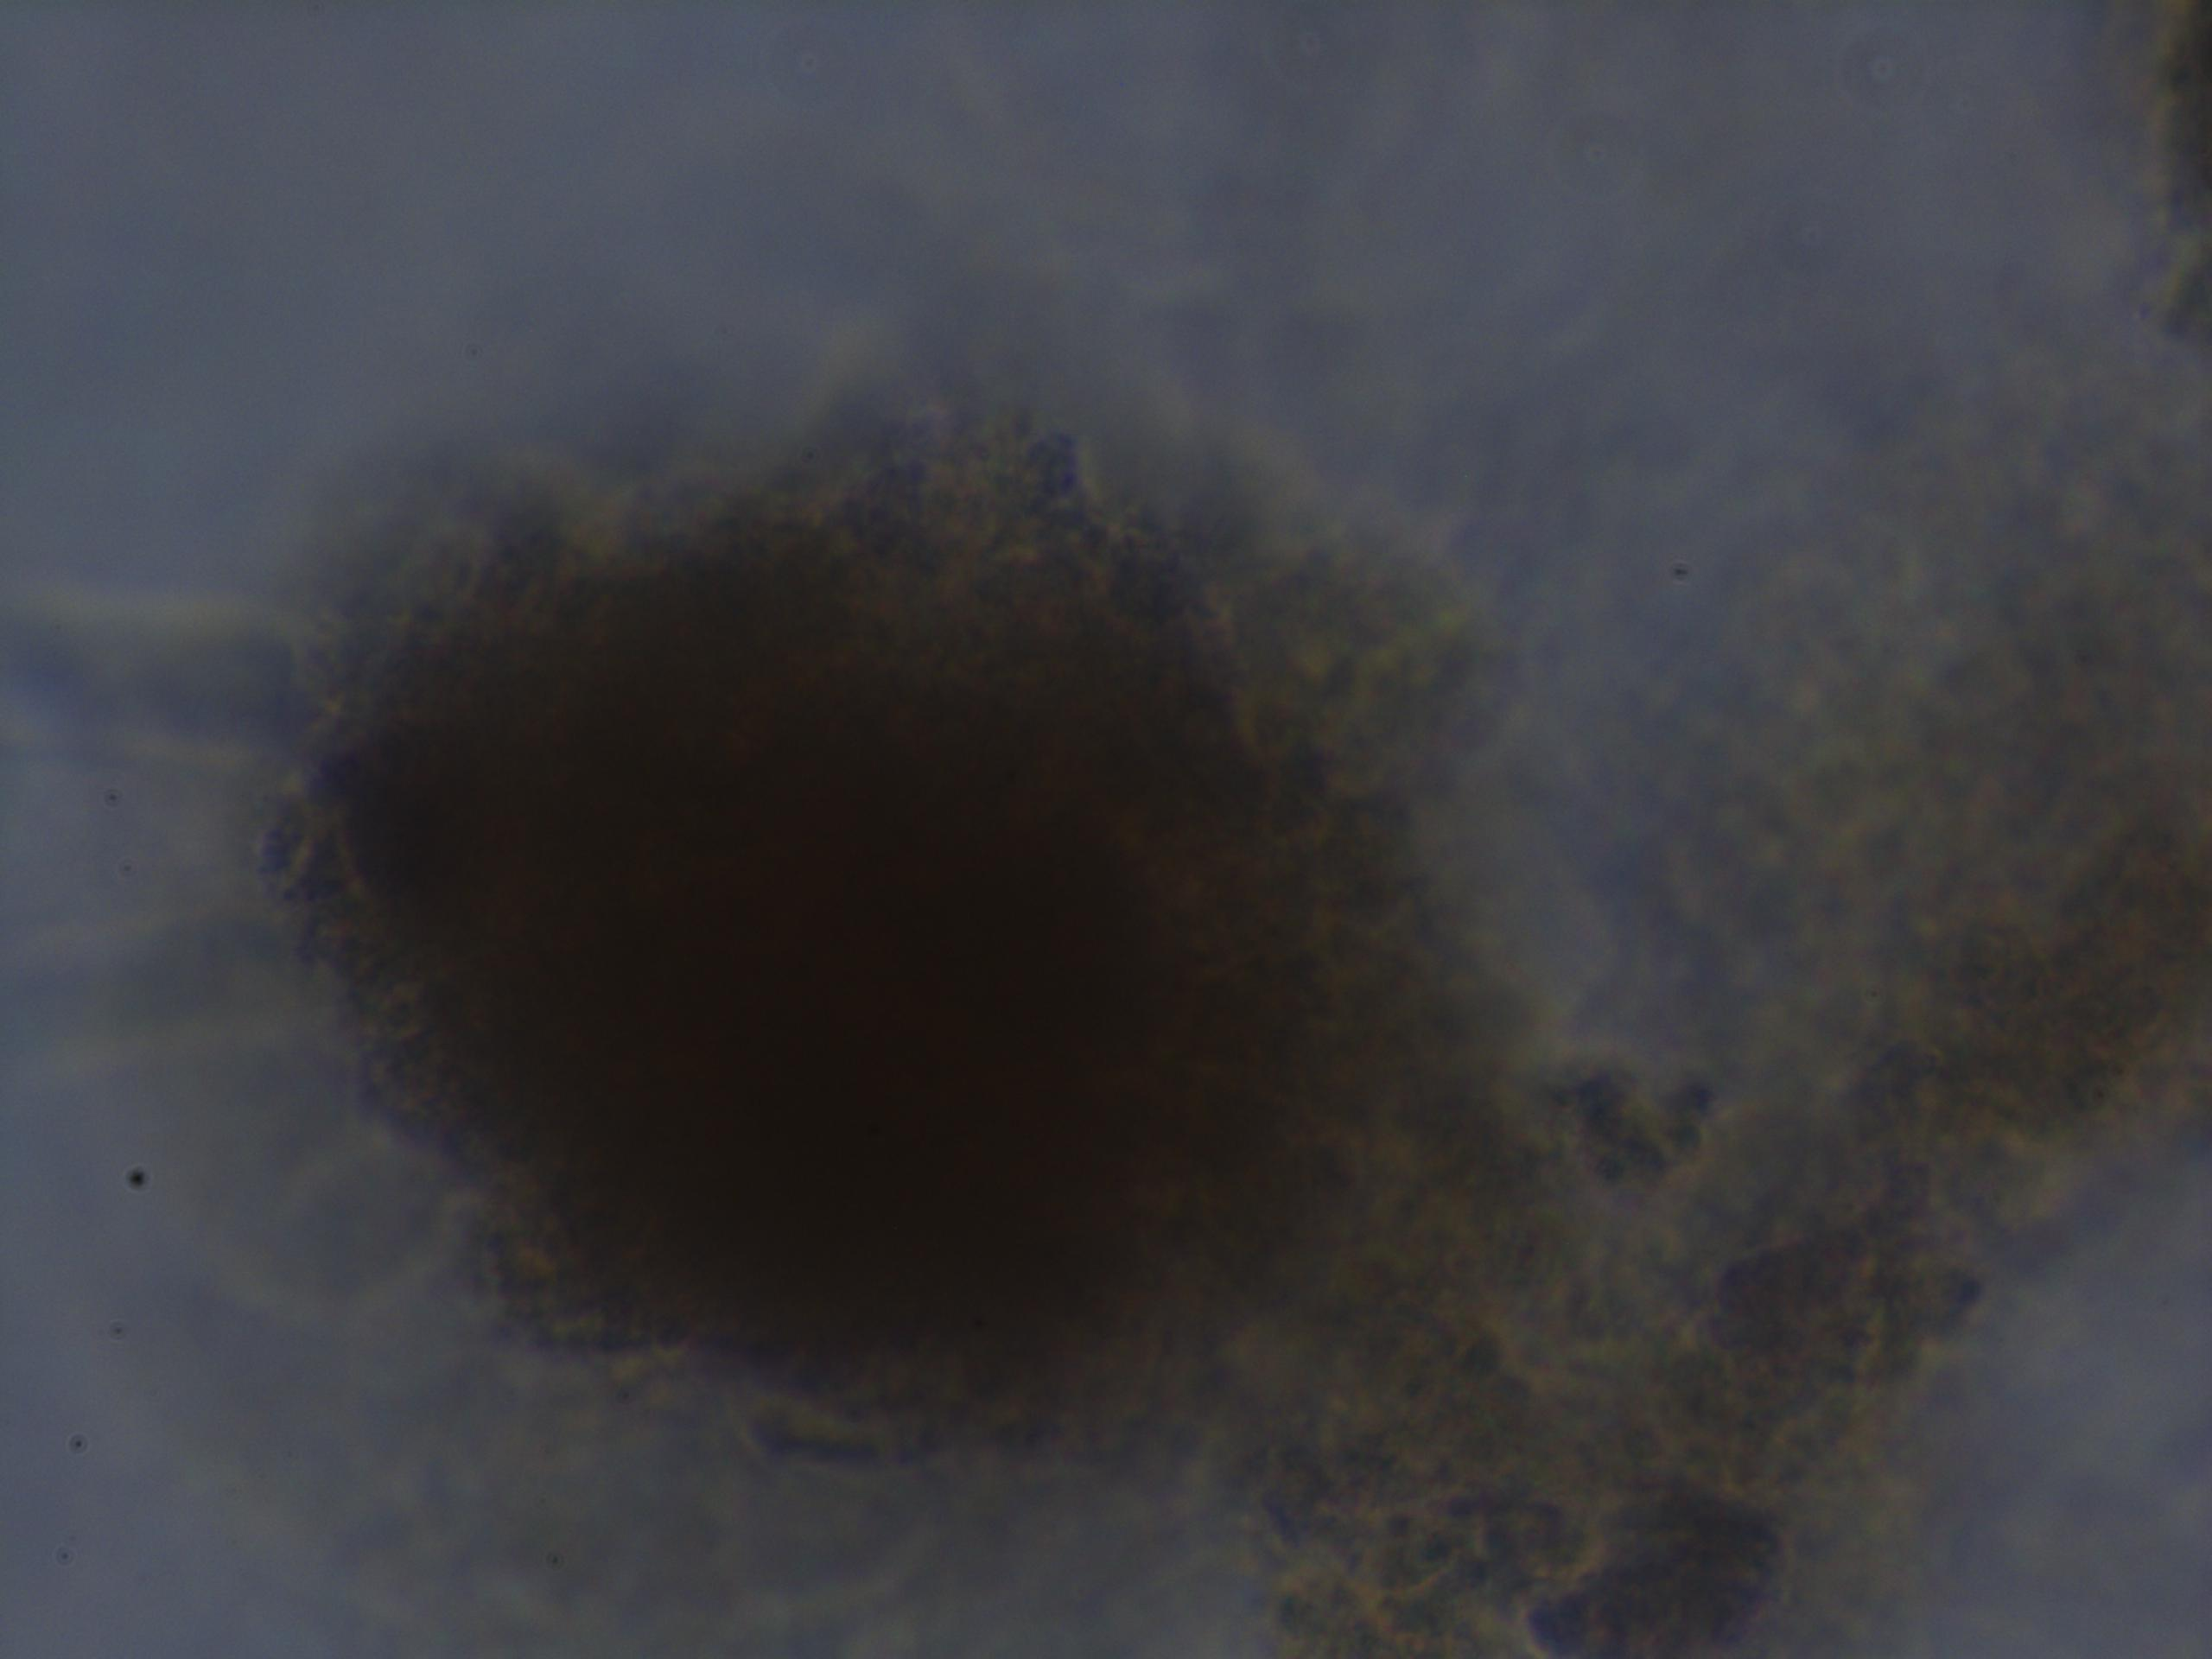spherical_floc: (263, 410, 1467, 1439)
